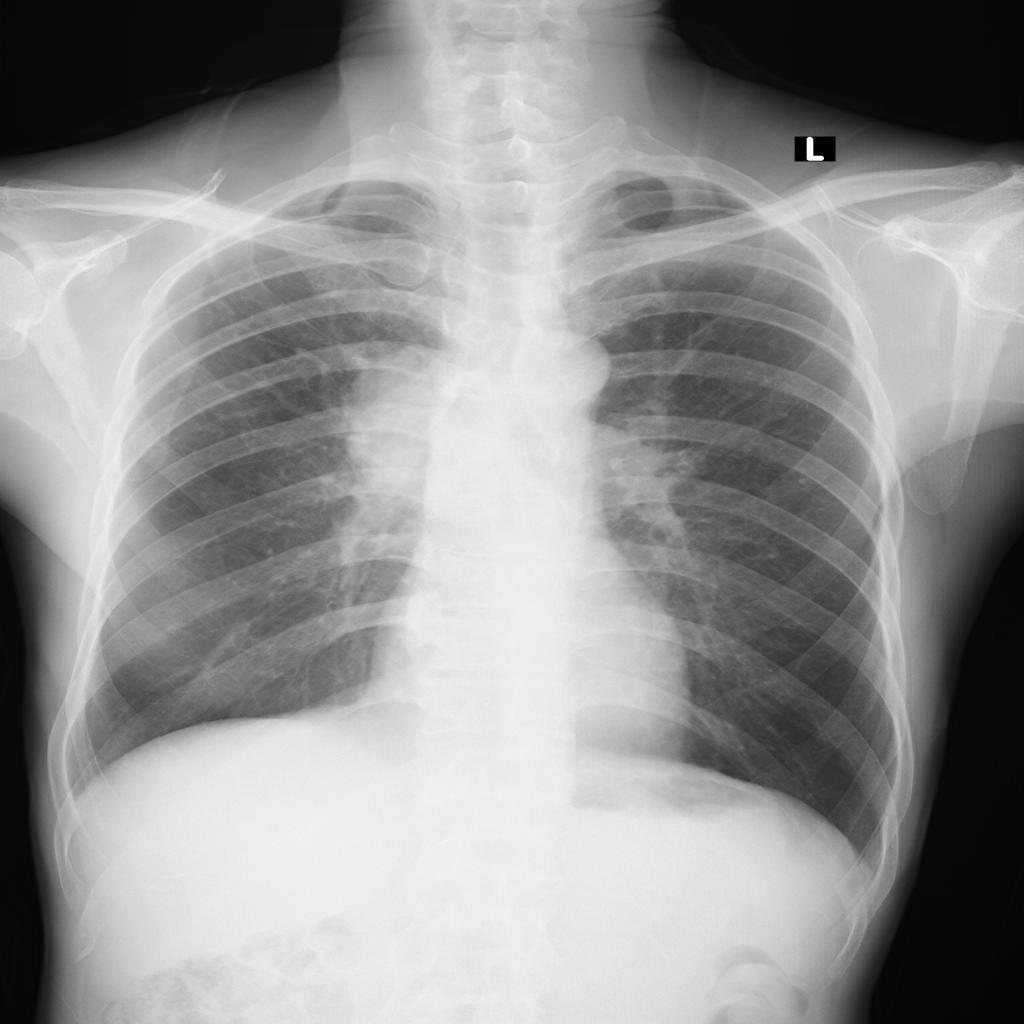Nodule: (343, 345, 437, 489)
